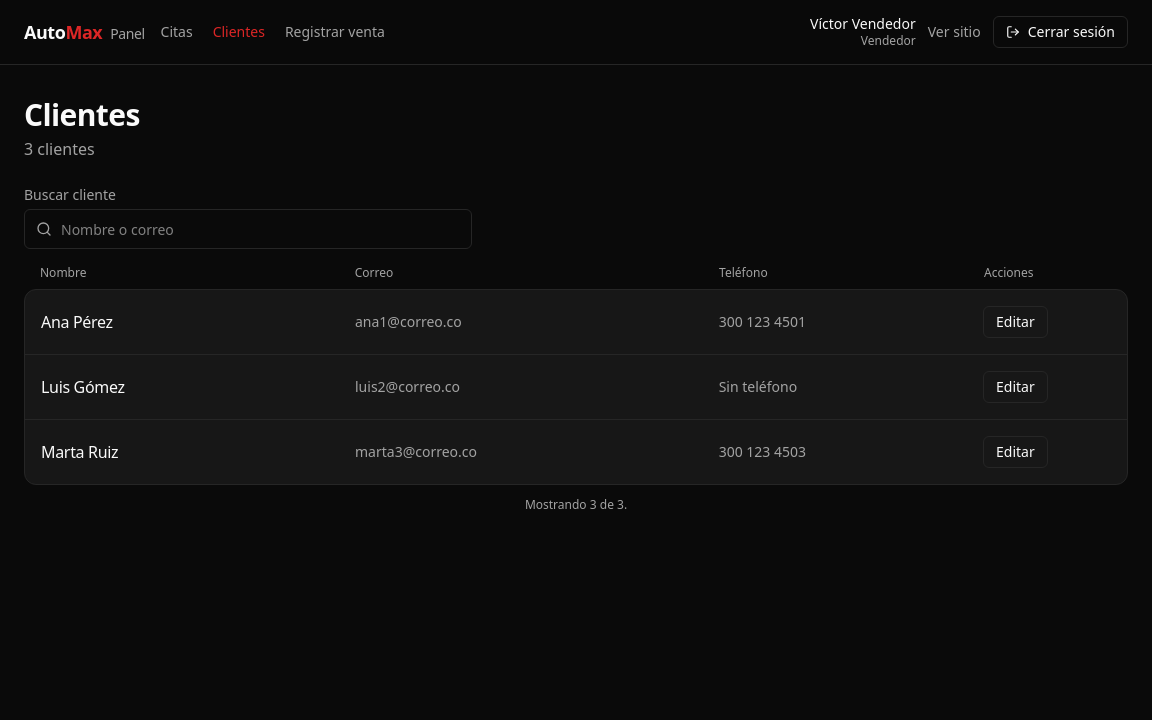
Test: editar un cliente › abre con los datos actuales y no deja revisar mientras no haya cambios
This screenshot has width=1152, height=720.
Click the button "Editar" in the row of "Ana Pérez". click: (1015, 322)
box: [983,306,1048,338]
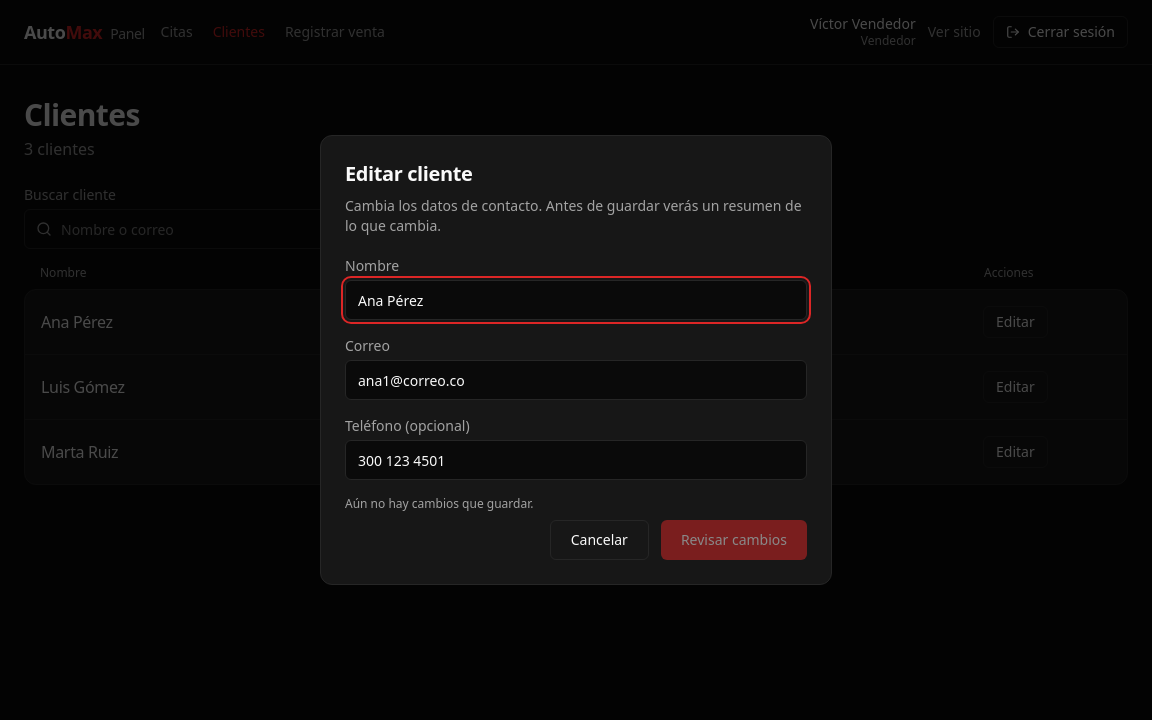
Now the field labelled "Nombre" holds "Ana Pérez", box [345,280,807,320]
Now the field labelled "Correo" holds "ana1@correo.co", box [345,360,807,400]
Now the field labelled "Teléfono (opcional)" holds "300 123 4501", box [345,440,807,480]
